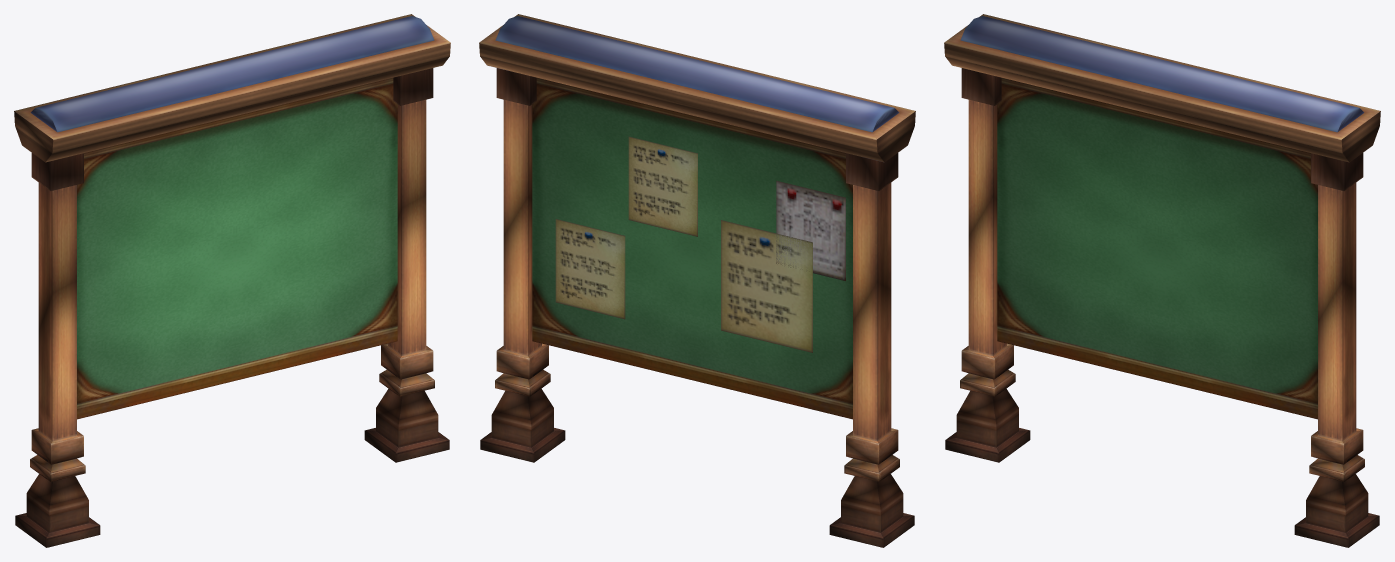
Rendered from a_SWItalk03.glb.
3 renders of one model, left to right at view 1: azimuth 30°, elevation 25°; view 2: azimuth 150°, elevation 25°; view 3: azimuth 330°, elevation 25°, orthographic.
Visible parts, largest first — view 1: a_SWItalk03; view 2: a_SWItalk03; view 3: a_SWItalk03.
Boxes of the visible parts, box(x1,y1,x2,y2) form: a_SWItalk03: box(14, 14, 450, 547); a_SWItalk03: box(479, 14, 915, 547); a_SWItalk03: box(944, 14, 1380, 547).
Bounding box in the file's own units: 2.15 × 2.15 × 0.362.
1 material, 1 textured.
